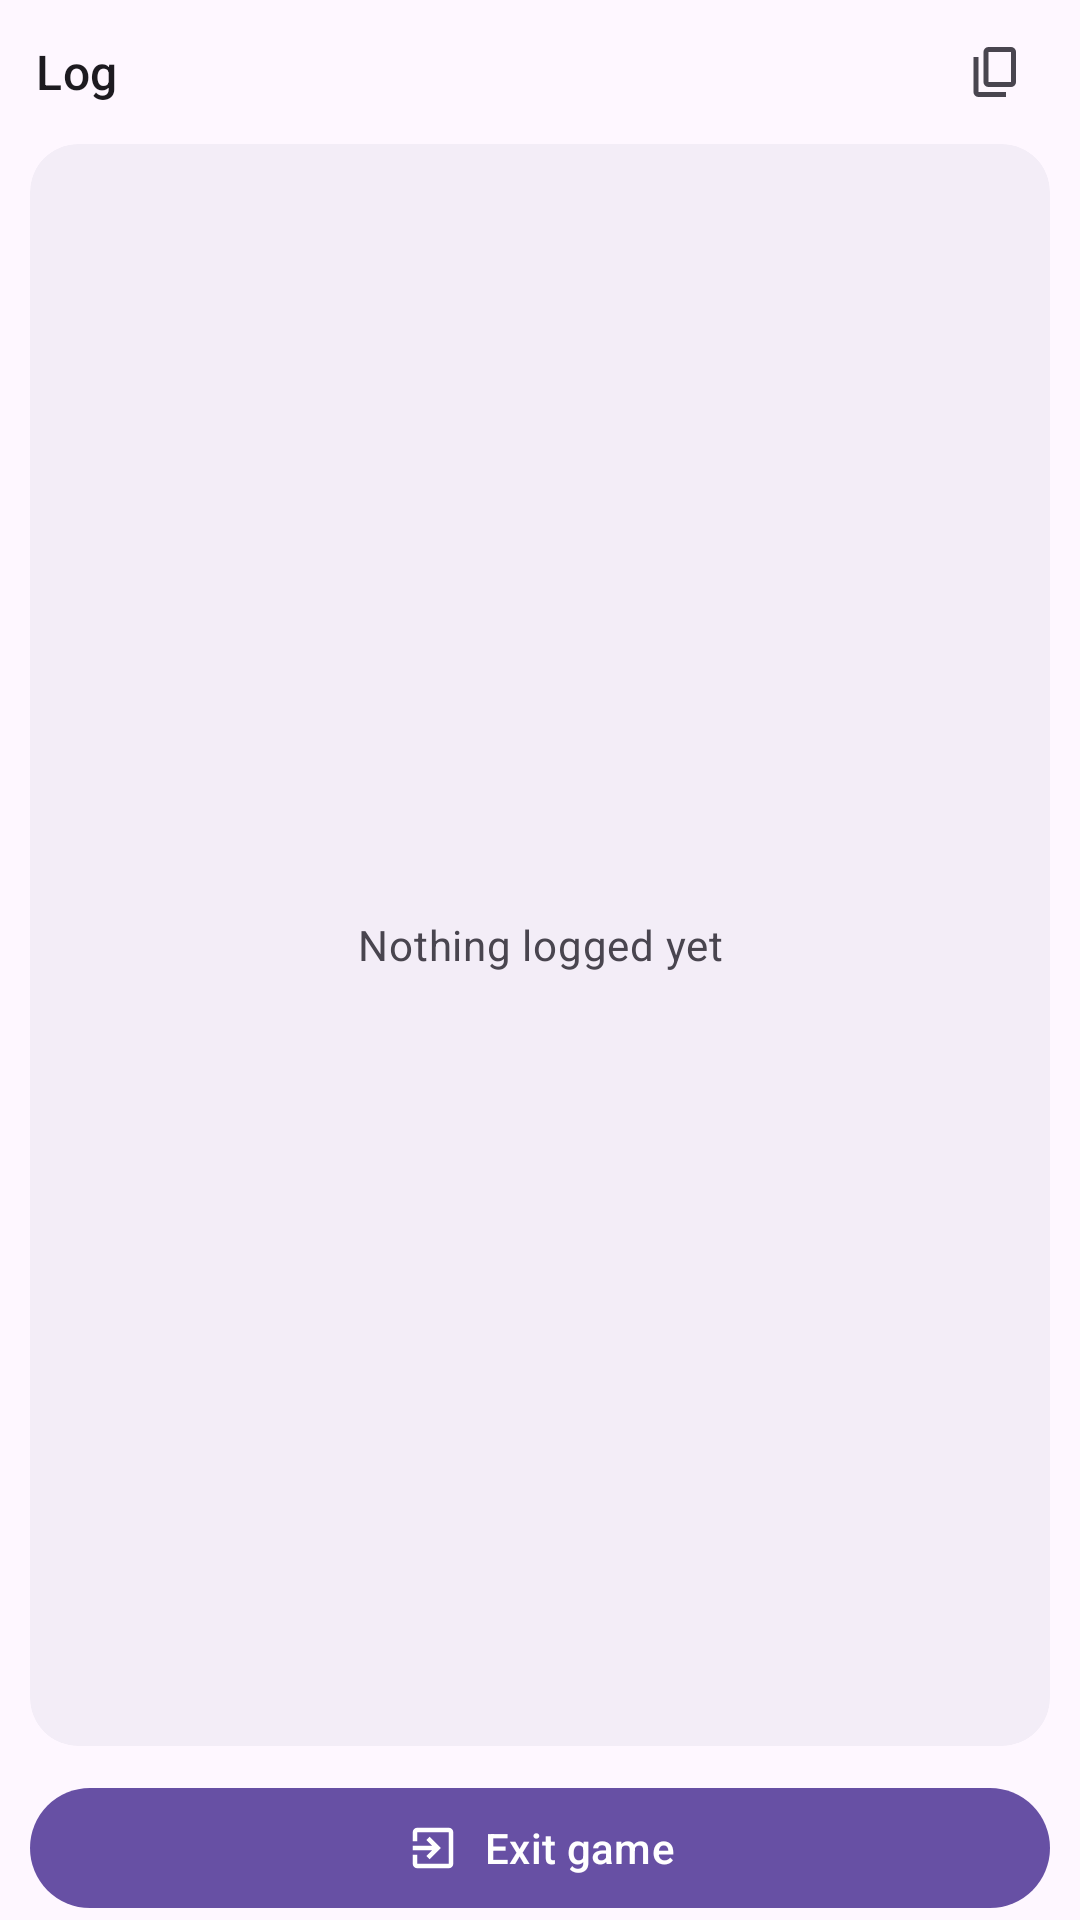

Where icons sit on this 1080px x 1920px app screen, as (x1, y1, x2, y2):
Copy log: (973, 47, 1016, 97)
